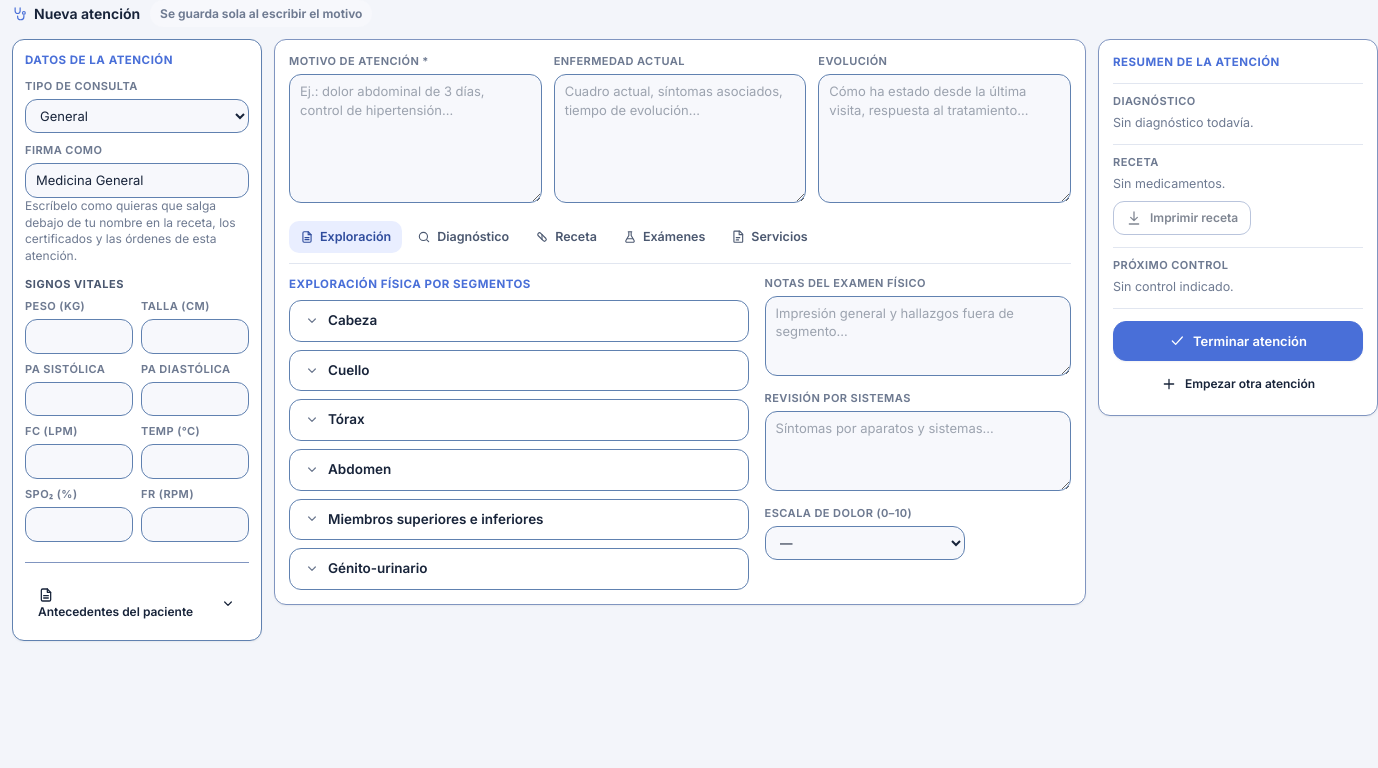
Test case: Encounter capability inventory › keeps the CIE-10 search and diagnostic impression
Click the tab "Diagnóstico".
click(463, 237)  # box [406,221,520,253]
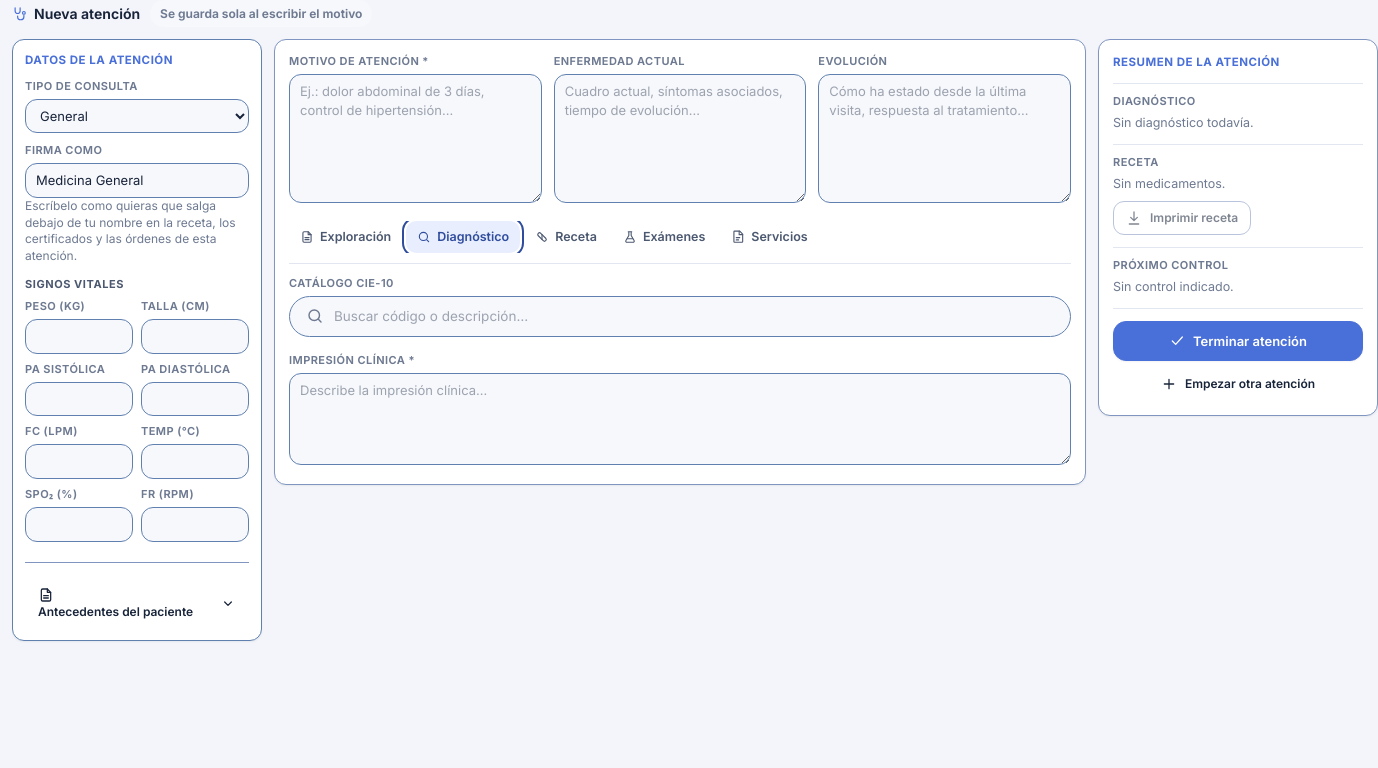
Expected: the field with placeholder "Buscar código o descripción…" is shown, [334,307,1054,326]
Expected: the text box with placeholder "Describe la impresión clínica…" is shown, [289,373,1071,464]
